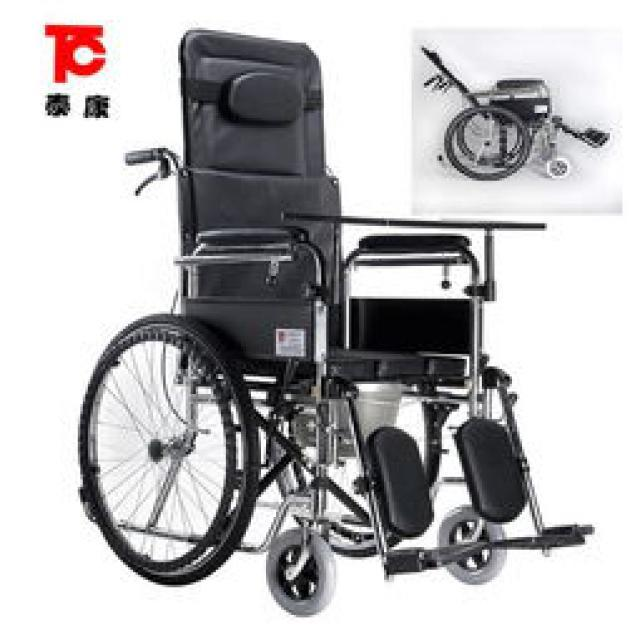wheelchair: (75, 22, 605, 622)
